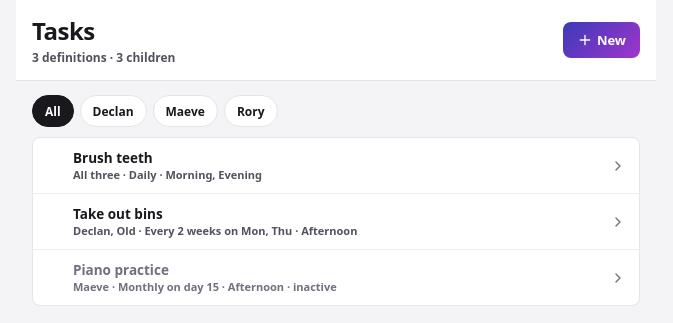
Test: DefinitionsTab › filter chips filter by child
Check: the text "Brush teeth" is shown, box [73,149,153,167]
Click the button "Maeve" at (185, 111), box [152,95,218,127]
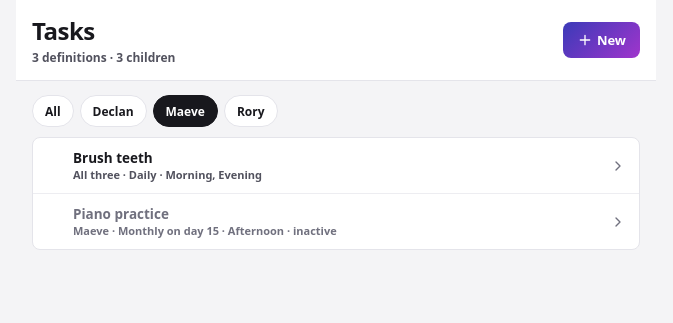
Check: the button with test id "definition-10" is shown, box [33,138,639,193]
Check: the button with test id "definition-11" is gone
Click the button "Rory" at (251, 111), box [224,95,278,127]
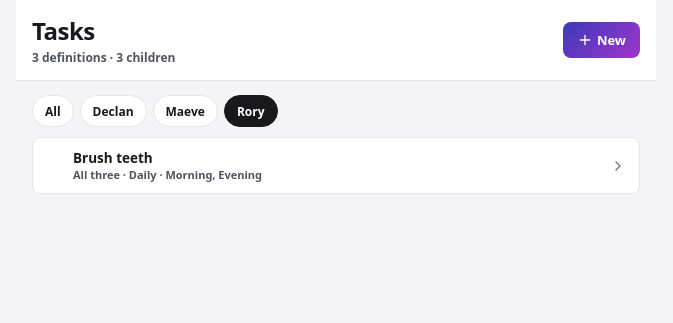
Check: the button with test id "definition-10" is shown, box [33,138,639,193]
Check: the button with test id "definition-12" is gone
Click the button "All" at (53, 111), box [32,95,74,127]
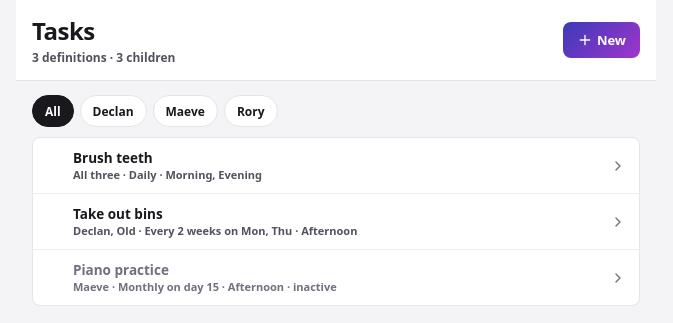
Check: the number of list items is 3, box [33,138,639,193]; [33,193,639,249]; [33,249,639,305]
